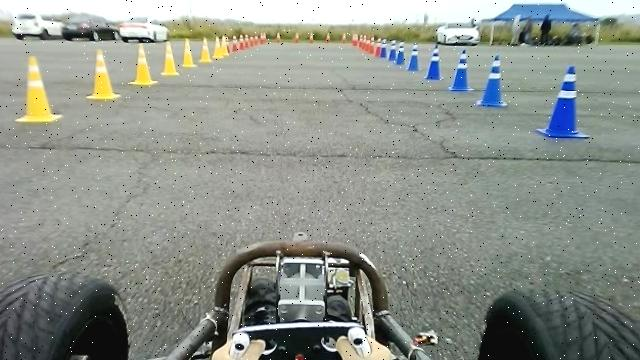blue cone: (537, 64, 590, 138), (477, 54, 508, 108), (449, 48, 474, 91), (425, 43, 445, 80), (407, 41, 421, 70), (396, 41, 406, 64), (388, 39, 398, 61)
yellow cone: (15, 54, 62, 123), (87, 48, 121, 99), (129, 43, 158, 85), (161, 40, 180, 75), (182, 37, 197, 67), (198, 36, 213, 62), (213, 35, 224, 59)
